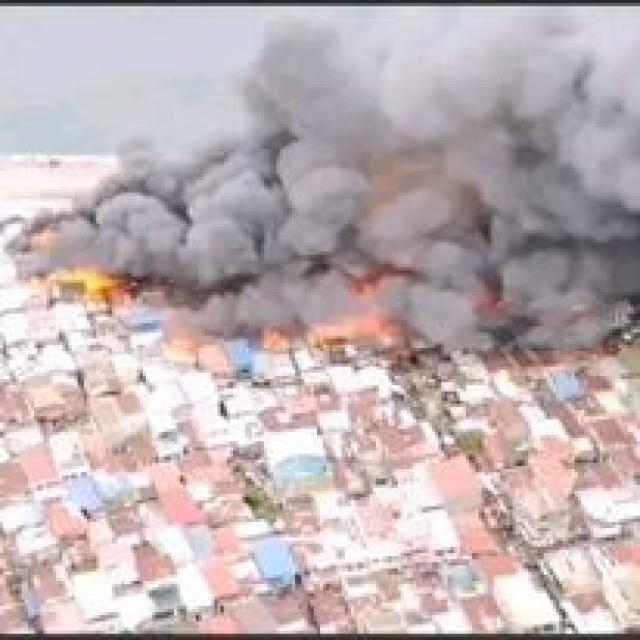Fire: (255, 300, 406, 345), (74, 262, 124, 306)
Smoke: (258, 6, 640, 326), (51, 185, 372, 296)
